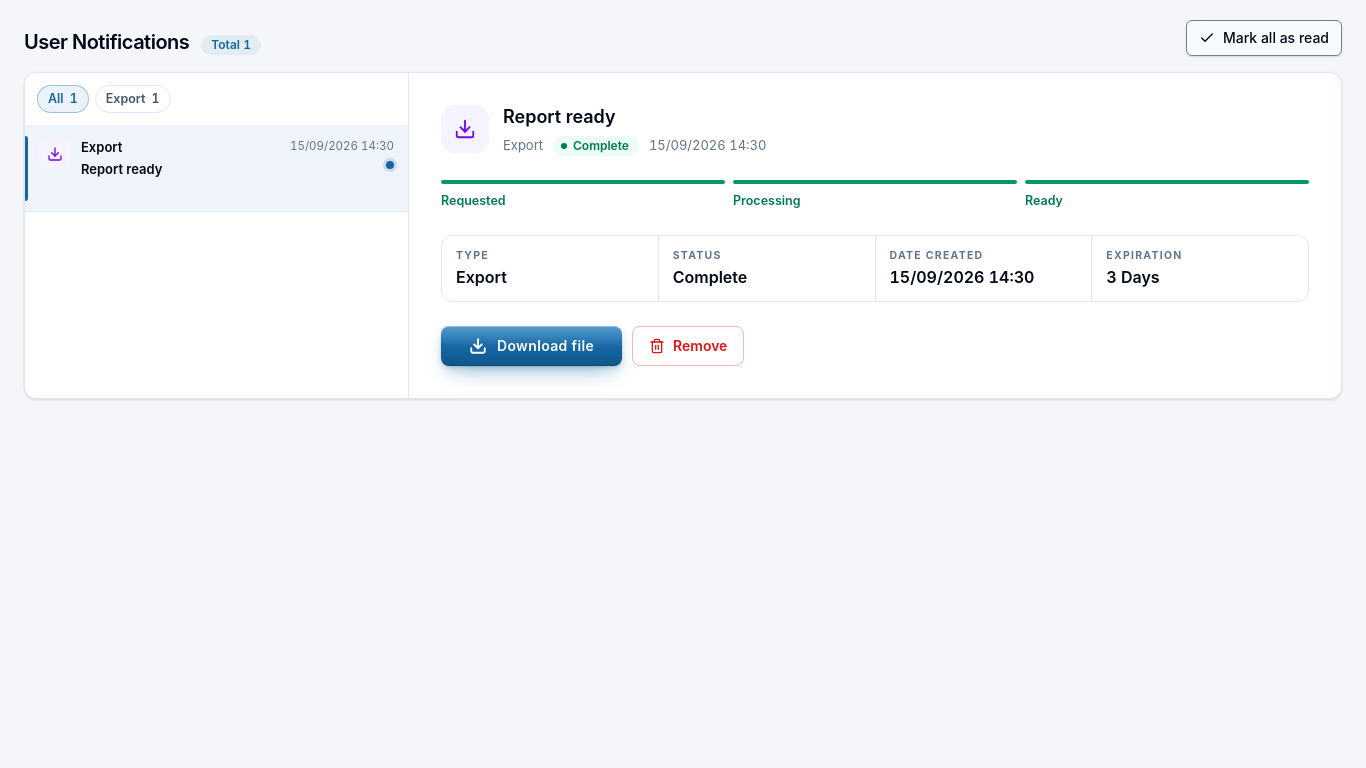
Test case: UserNotificationsScreen › confirms delete, posts delete?id= and reloads
Click the button "Remove" at (688, 346), box [632,326,744,366]
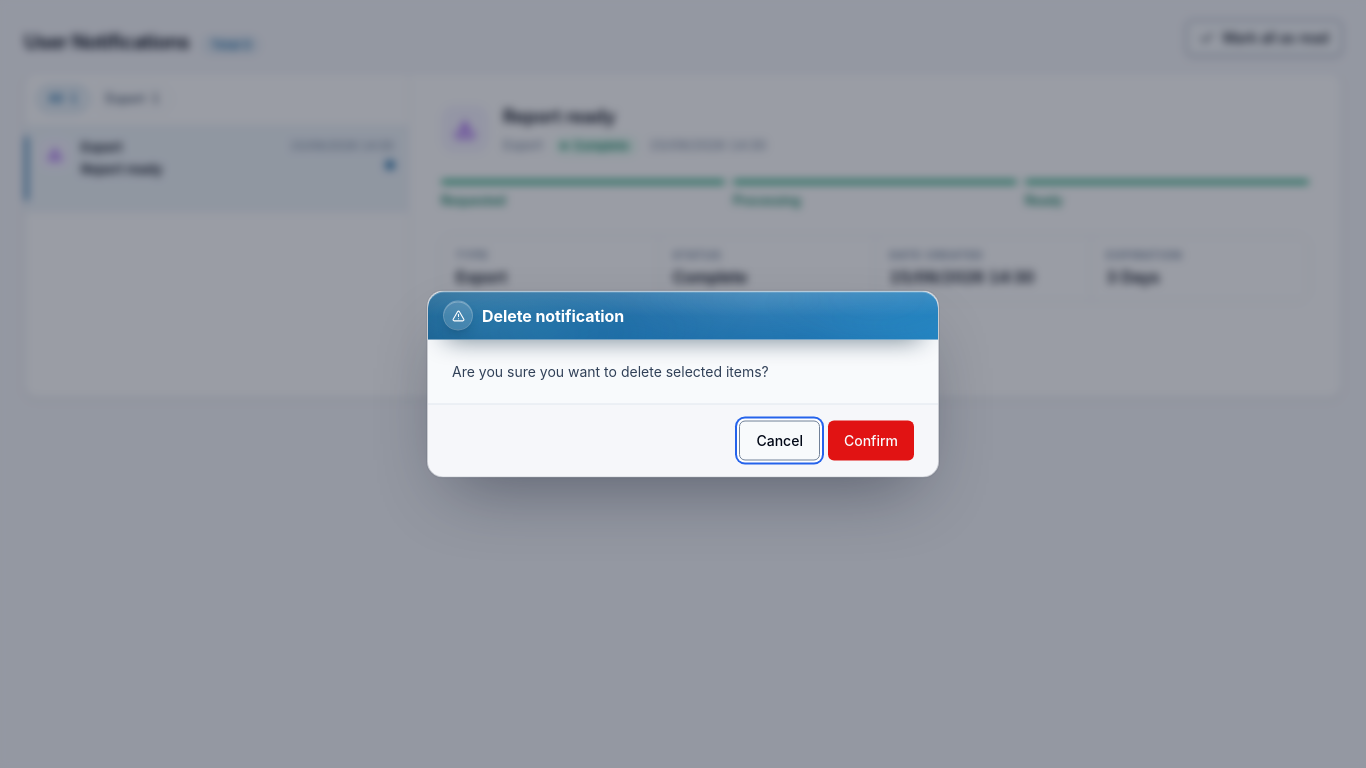
Expected: the text "Are you sure you want to delete selected items?" is shown, [452,362,769,380]
Click the button "Confirm" at (871, 440), box [828,420,914,460]
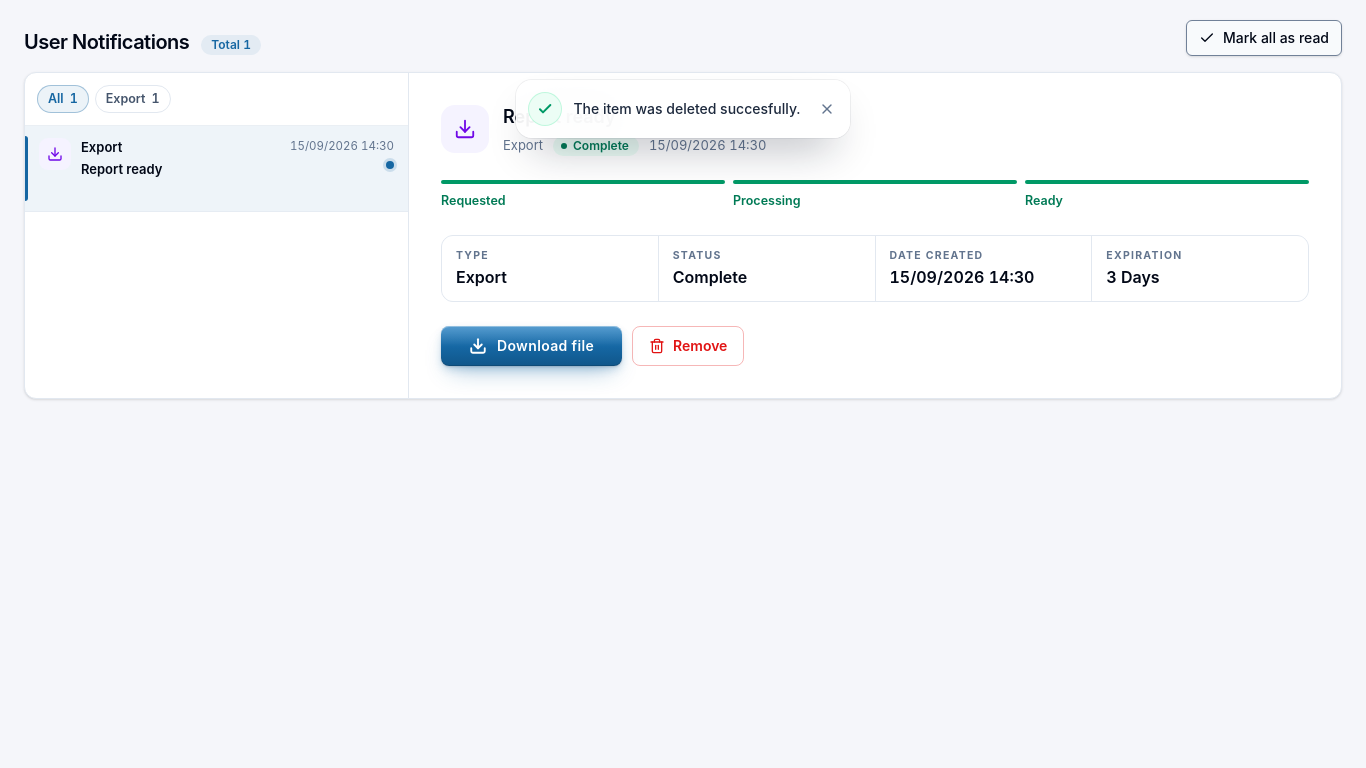
Expected: the text "The item was deleted succesfully." is shown, [573,99,801,119]
